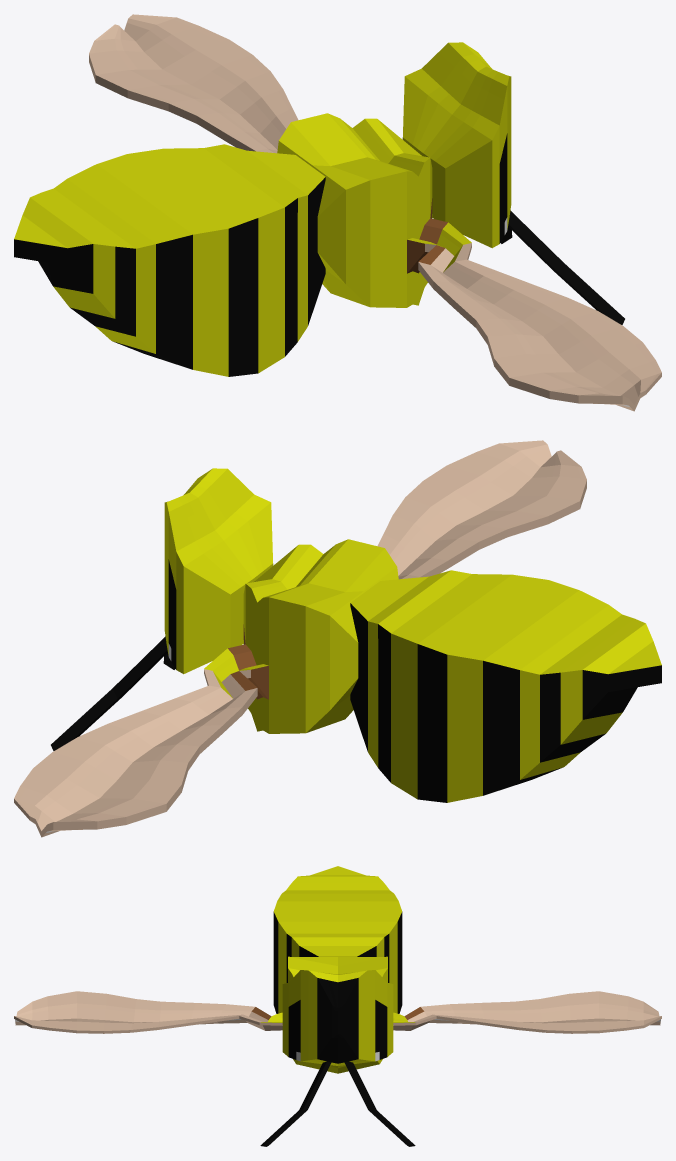
The model's file is bee.fbx.
3 views of the same model, one above another, from view 1: azimuth 30°, elevation 25°; view 2: azimuth 150°, elevation 25°; view 3: azimuth 270°, elevation 25° (orthographic). The views are drawn at different scales.
Visible parts, largest first — view 1: Cube; view 2: Cube; view 3: Cube.
Boxes of the visible parts, bbox=[...] form: Cube: bbox=[14, 14, 661, 411]; Cube: bbox=[14, 440, 661, 837]; Cube: bbox=[14, 866, 661, 1146].
Bounding box in the file's own units: 144 × 60.85 × 232.
